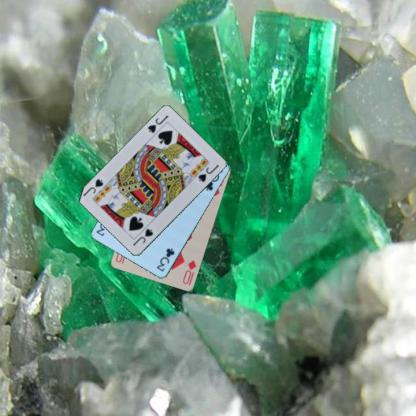10d: (180, 258, 198, 285)
3c: (154, 245, 176, 272)
Js: (145, 112, 170, 134), (130, 226, 154, 247)
